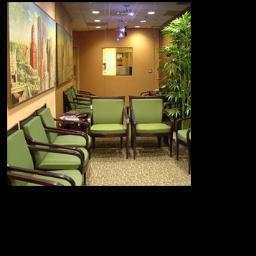Bote de Basura: (63, 108, 88, 132)
Matera: (169, 18, 190, 153)
